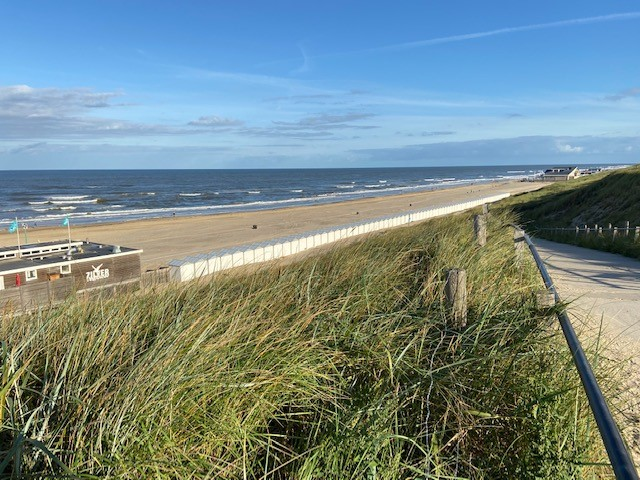strandtent: (534, 161, 585, 188)
